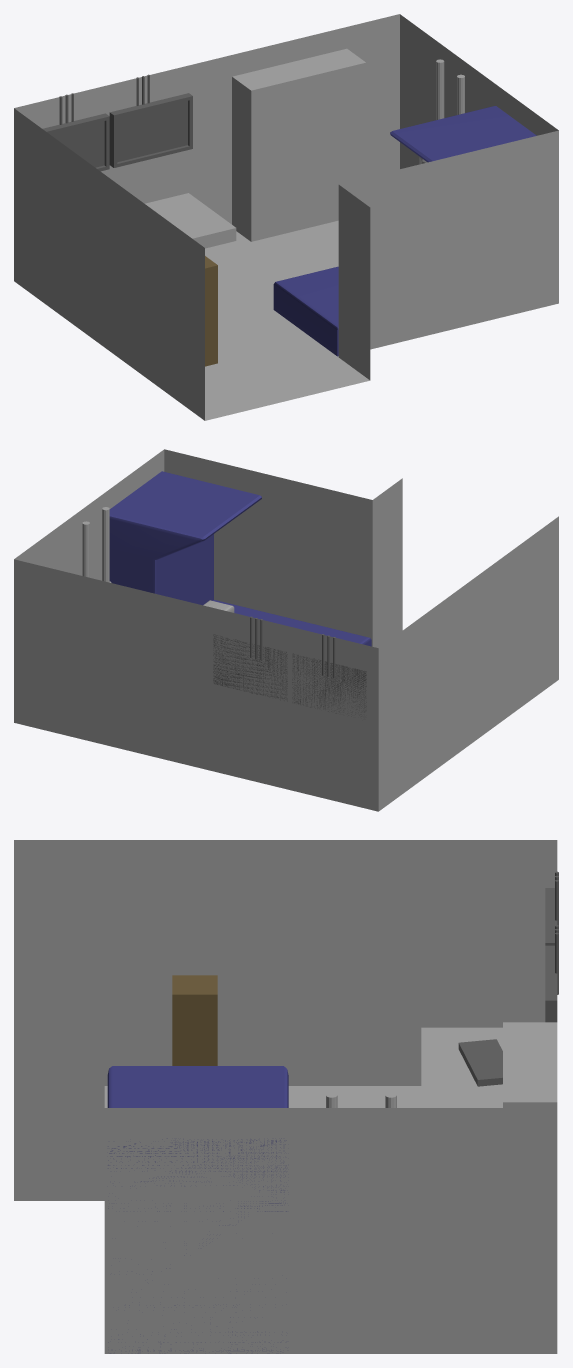
The model's file is Test Room.fbx.
3 views of the same model, one above another, from view 1: azimuth 30°, elevation 25°; view 2: azimuth 150°, elevation 25°; view 3: azimuth 270°, elevation 25° (orthographic). The views are drawn at different scales.
Visible parts, largest first — view 1: pPlane1, pCube8, pCube2, pCube7, pCube3, pCube6, pCube1, pCylinder2; view 2: pPlane1, pCube2, pCube8, pCube7, pCube6, pCube3, pCylinder1; view 3: pPlane1, pCube2, pCube3, pCube8, pCube1, pCube5, pCube7.
Boxes of the visible parts, bbox=[...] form: pPlane1: bbox=[14, 14, 558, 420]; pCube8: bbox=[232, 48, 366, 241]; pCube2: bbox=[273, 106, 536, 356]; pCube7: bbox=[109, 93, 192, 167]; pCube3: bbox=[145, 193, 236, 248]; pCube6: bbox=[42, 113, 109, 171]; pCube1: bbox=[205, 256, 217, 366]; pCylinder2: bbox=[419, 59, 444, 164]; pPlane1: bbox=[14, 449, 558, 811]; pCube2: bbox=[109, 471, 371, 646]; pCube8: bbox=[64, 593, 171, 758]; pCube7: bbox=[213, 634, 287, 701]; pCube6: bbox=[292, 653, 366, 716]; pCube3: bbox=[213, 728, 369, 808]; pCylinder1: bbox=[102, 507, 111, 582]; pPlane1: bbox=[14, 840, 557, 1353]; pCube2: bbox=[107, 1066, 288, 1353]; pCube3: bbox=[421, 1027, 502, 1107]; pCube8: bbox=[503, 1022, 557, 1107]; pCube1: bbox=[172, 975, 217, 1065]; pCube5: bbox=[458, 1039, 502, 1086]; pCube7: bbox=[545, 945, 557, 1022].
Bounding box in the file's own units: 7 × 3 × 6.02.
